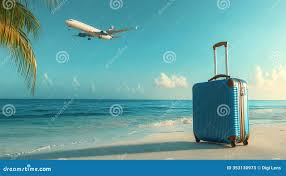suitcase: (188, 39, 252, 148)
